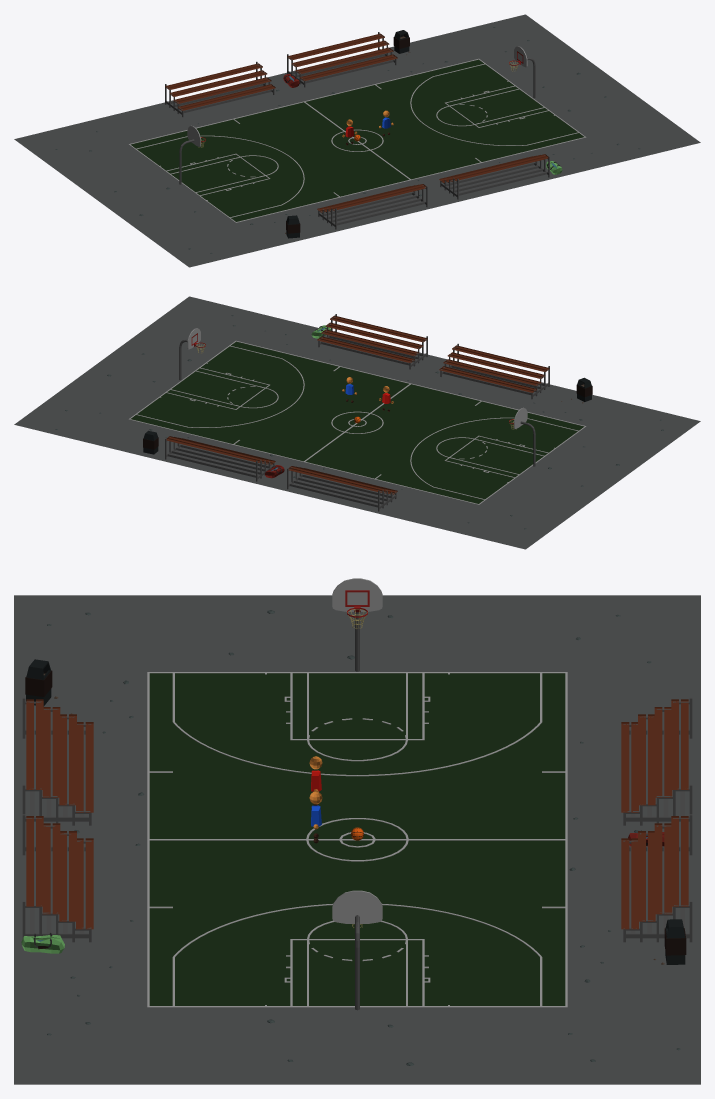
3 views of the same model, one above another, from view 1: azimuth 30°, elevation 25°; view 2: azimuth 150°, elevation 25°; view 3: azimuth 270°, elevation 25° (orthographic). The views are drawn at different scales.
Visible parts, largest first — view 1: Basketball Terrain_19; view 2: Basketball Terrain_19; view 3: Basketball Terrain_19.
Part boxes in pixels (x1=…): Basketball Terrain_19: x1=14, y1=14, x2=700, y2=267; Basketball Terrain_19: x1=14, y1=296, x2=700, y2=549; Basketball Terrain_19: x1=14, y1=578, x2=700, y2=1084.
Bounding box in the file's own units: 36.96 × 3.81 × 21.94.
